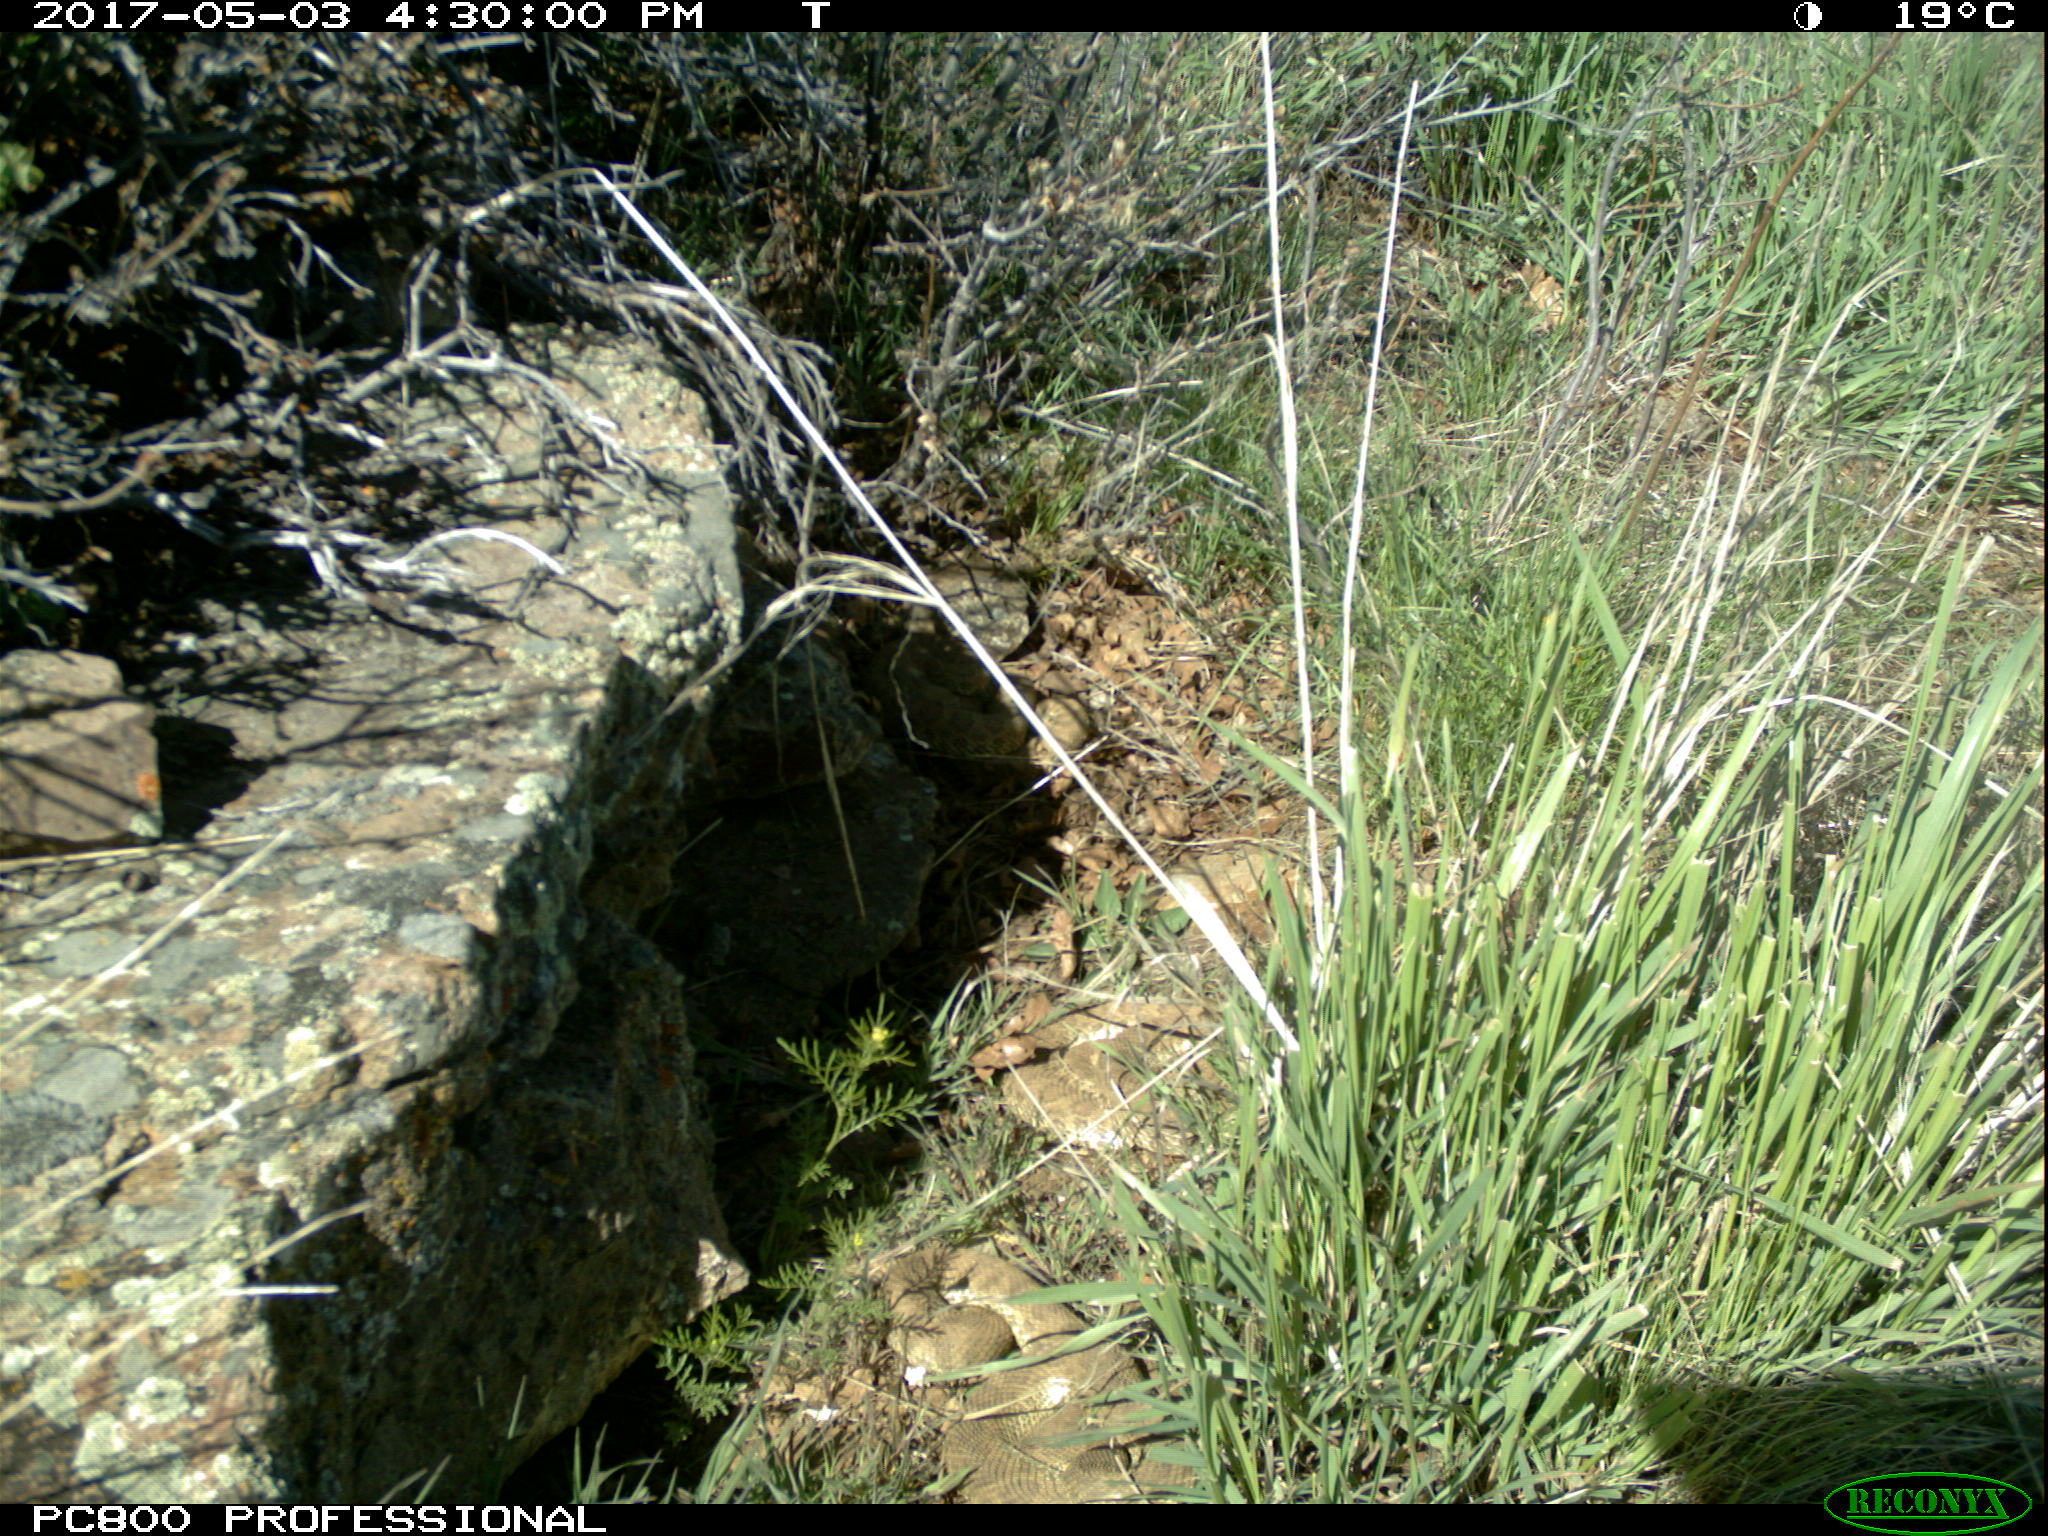snake: (871, 1242, 1230, 1502), (980, 995, 1248, 1158)
